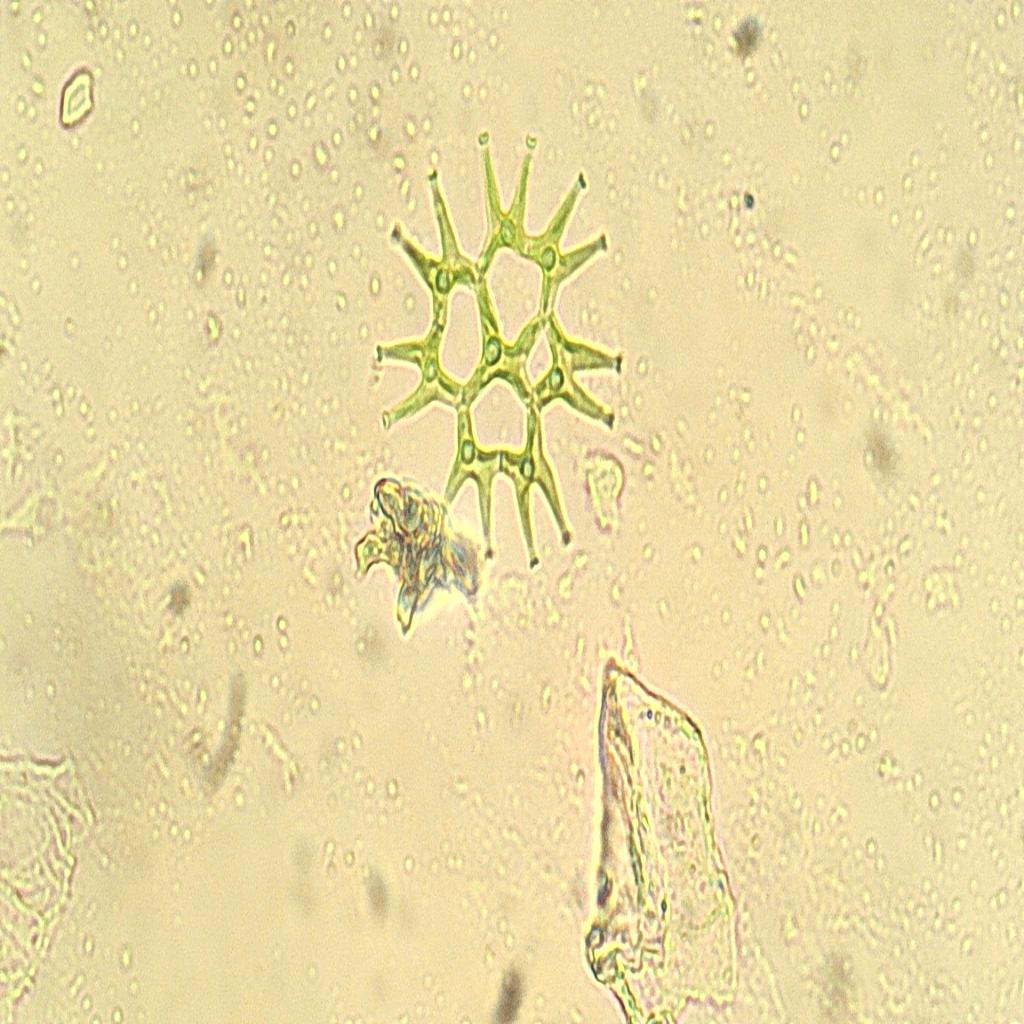Pediastrum_75T: (368, 75, 638, 589)
